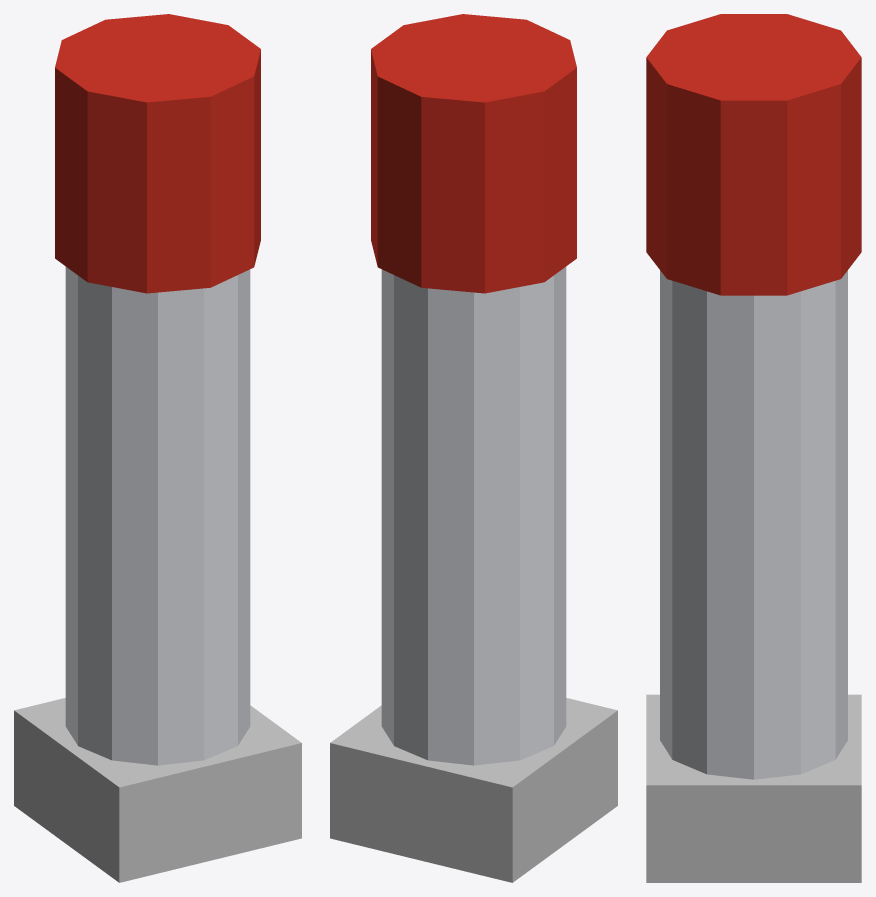
The model's file is flare.obj.
The picture shows the model from 3 angles, left to right: view 1: azimuth 30°, elevation 25°; view 2: azimuth 150°, elevation 25°; view 3: azimuth 270°, elevation 25°; orthographic projection. The views are drawn at different scales.
Visible parts, largest first — view 1: flare; view 2: flare; view 3: flare.
Part boxes in pixels (left/top/right/bottom): flare: left=14, top=14, right=301, bottom=882; flare: left=330, top=14, right=617, bottom=882; flare: left=646, top=14, right=861, bottom=882.
Size of the model in its own units: 0.08 by 0.32 by 0.08.
